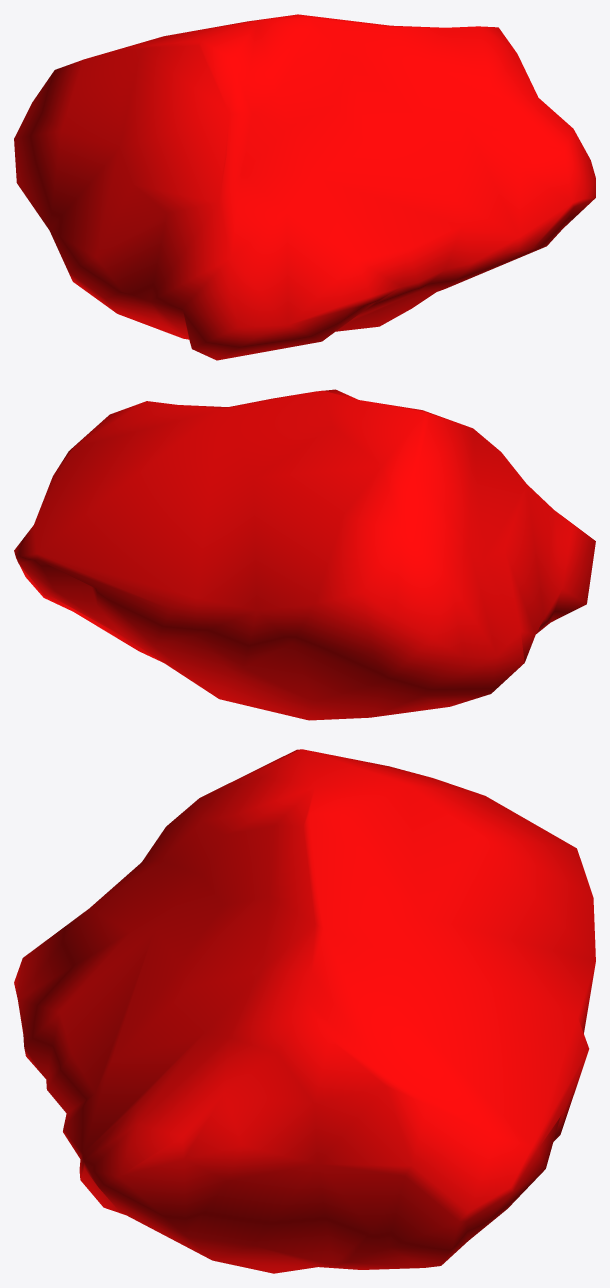
File: Prop_Rock_01.FBX
3 views of the same model, one above another, from view 1: azimuth 30°, elevation 25°; view 2: azimuth 150°, elevation 25°; view 3: azimuth 270°, elevation 25° (orthographic). The views are drawn at different scales.
Visible parts, largest first — view 1: Rock_Granite_01; view 2: Rock_Granite_01; view 3: Rock_Granite_01.
Boxes of the visible parts, x1=… form: Rock_Granite_01: x1=14, y1=14, x2=595, y2=360; Rock_Granite_01: x1=14, y1=389, x2=595, y2=720; Rock_Granite_01: x1=14, y1=749, x2=595, y2=1273.
Bounding box in the file's own units: 92.48 × 60.05 × 75.48.
